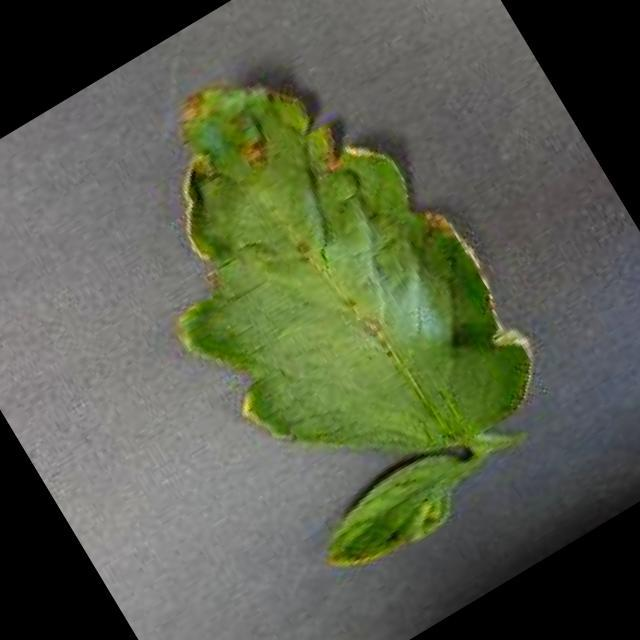Tomato bacterial spot leaf: (67, 7, 594, 603)
